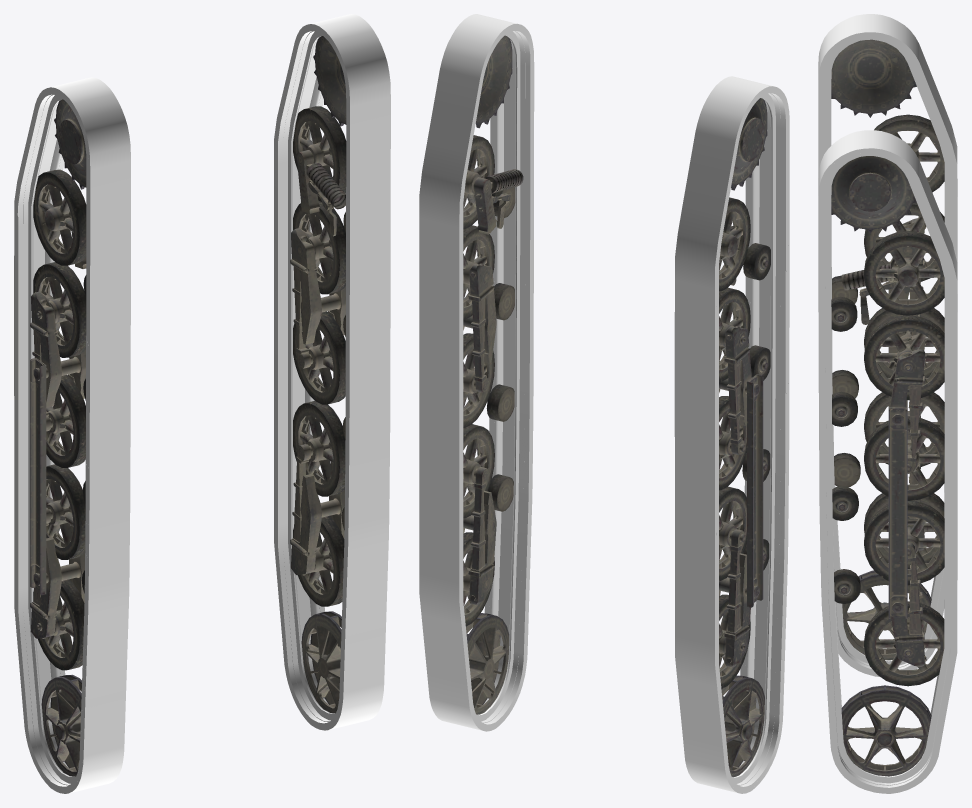
The model's file is Chassis.glb.
The picture shows the model from 3 angles, left to right: view 1: azimuth 30°, elevation 25°; view 2: azimuth 150°, elevation 25°; view 3: azimuth 270°, elevation 25°; orthographic projection. The views are drawn at different scales.
Parts seen in each view (by area): view 1: set_0_group_0, set_1_group_0, set_2_group_0, set_3_group_0; view 2: set_0_group_0, set_1_group_0, set_2_group_0, set_3_group_0; view 3: set_3_group_0, set_0_group_0, set_2_group_0, set_1_group_0.
Part boxes in pixels (left/top/right/bottom): set_0_group_0: left=274, top=14, right=390, bottom=730; set_1_group_0: left=14, top=77, right=130, bottom=793; set_2_group_0: left=30, top=99, right=86, bottom=776; set_3_group_0: left=290, top=36, right=346, bottom=713; set_0_group_0: left=419, top=14, right=534, bottom=731; set_1_group_0: left=674, top=76, right=789, bottom=793; set_2_group_0: left=719, top=98, right=770, bottom=776; set_3_group_0: left=463, top=35, right=523, bottom=714; set_3_group_0: left=831, top=156, right=944, bottom=776; set_0_group_0: left=818, top=130, right=957, bottom=793; set_2_group_0: left=831, top=39, right=944, bottom=660; set_1_group_0: left=818, top=14, right=957, bottom=676.
Bounding box in the file's own units: 2.06 × 4.29 × 0.8399.
4 materials, 2 textured.
